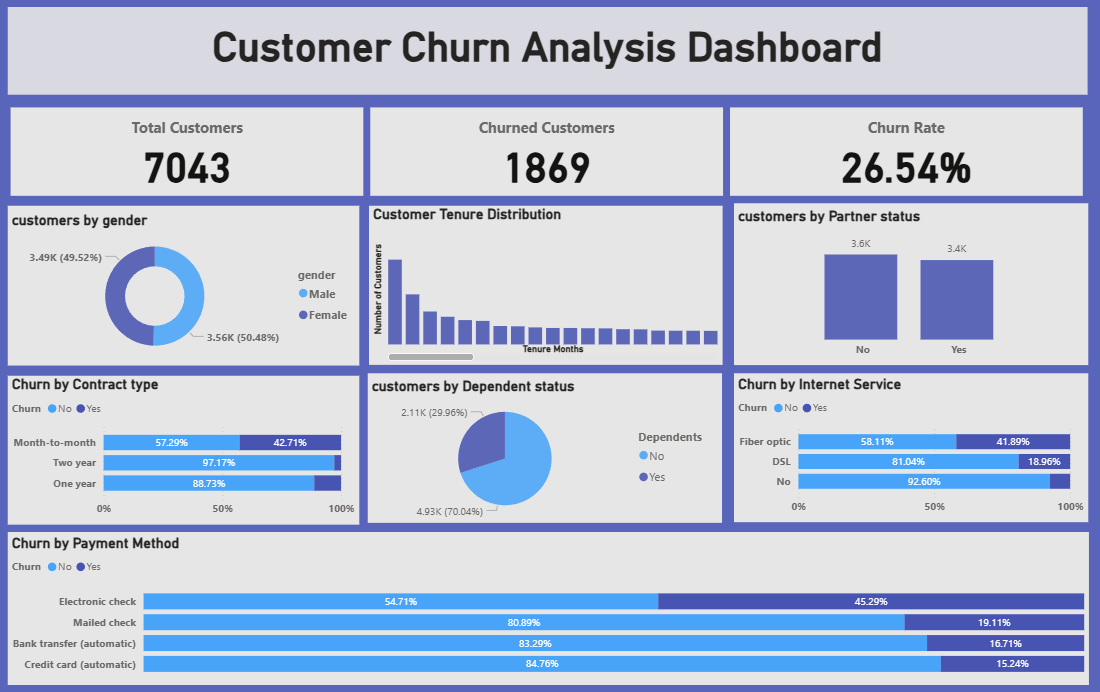

The page's visual inventory and layout, read from the dashboard file:
{"tool":"powerbi","page":{"name":"Page 1","canvas":[1300,820],"ordinal":0},"visuals":[{"type":"cardVisual","title":"Churn Rate(%)","fields":{"Data":["Telco_Customer_Churn_Dataset  (2).Total Customers","Telco_Customer_Churn_Dataset  (2).Churned Customers","Telco_Customer_Churn_Dataset  (2).Churn Rate"]},"box":[8.3,115,1271.7,128.3],"z":0},{"type":"donutChart","title":"customers by gender","fields":{"Category":["Telco_Customer_Churn_Dataset  (2).gender"],"Y":["CountNonNull(Telco_Customer_Churn_Dataset  (2).customerID)"]},"box":[10,245,413.3,188.3],"z":1000},{"type":"clusteredColumnChart","title":"customers by Partner status","fields":{"Category":["Telco_Customer_Churn_Dataset  (2).Partner"],"Y":["CountNonNull(Telco_Customer_Churn_Dataset  (2).customerID)"]},"box":[865,243.3,416.7,190],"z":2000},{"type":"pieChart","title":"customers by Dependent status","fields":{"Category":["Telco_Customer_Churn_Dataset  (2).Dependents"],"Y":["CountNonNull(Telco_Customer_Churn_Dataset  (2).customerID)"]},"box":[434.3,442.9,417.1,175.7],"z":3000},{"type":"hundredPercentStackedBarChart","title":"Churn by Contract type","fields":{"Category":["Telco_Customer_Churn_Dataset  (2).Contract"],"Series":["Telco_Customer_Churn_Dataset  (2).Churn"],"Y":["CountNonNull(Telco_Customer_Churn_Dataset  (2).customerID)"]},"box":[10,445,413.3,175],"z":4000},{"type":"hundredPercentStackedBarChart","title":"Churn by Payment Method ","fields":{"Category":["Telco_Customer_Churn_Dataset  (2).PaymentMethod"],"Y":["CountNonNull(Telco_Customer_Churn_Dataset  (2).customerID)"],"Series":["Telco_Customer_Churn_Dataset  (2).Churn"]},"box":[10,630,1271.7,180],"z":5000},{"type":"hundredPercentStackedBarChart","title":"Churn by Internet Service","fields":{"Category":["Telco_Customer_Churn_Dataset  (2).InternetService"],"Y":["CountNonNull(Telco_Customer_Churn_Dataset  (2).customerID)"],"Series":["Telco_Customer_Churn_Dataset  (2).Churn"]},"box":[865,443.3,416.7,175],"z":6000},{"type":"clusteredColumnChart","title":"Customer Tenure Distribution","fields":{"Category":["Telco_Customer_Churn_Dataset  (2).tenure","Telco_Customer_Churn_Dataset  (2).tenure (bins)"],"Y":["CountNonNull(Telco_Customer_Churn_Dataset  (2).customerID)","select"]},"box":[435.7,245.7,415.7,187.1],"z":7000},{"type":"shape","title":"Customer Churn Analysis Dashboard","box":[10,11.7,1270,103.3],"z":8000}]}

Visuals, with their boxes in screenshot pixels (x1, y1, x2, y2), scaled from the page's 1300x820 canvas onto the 1100x692 screenshot:
"Churn Rate(%)" cardVisual: detection(7, 97, 1083, 205)
"customers by gender" donutChart: detection(8, 207, 358, 366)
"customers by Partner status" clusteredColumnChart: detection(732, 205, 1085, 366)
"customers by Dependent status" pieChart: detection(367, 374, 720, 522)
"Churn by Contract type" hundredPercentStackedBarChart: detection(8, 376, 358, 523)
"Churn by Payment Method " hundredPercentStackedBarChart: detection(8, 532, 1085, 684)
"Churn by Internet Service" hundredPercentStackedBarChart: detection(732, 374, 1085, 522)
"Customer Tenure Distribution" clusteredColumnChart: detection(369, 207, 720, 365)
"Customer Churn Analysis Dashboard" shape: detection(8, 10, 1083, 97)
